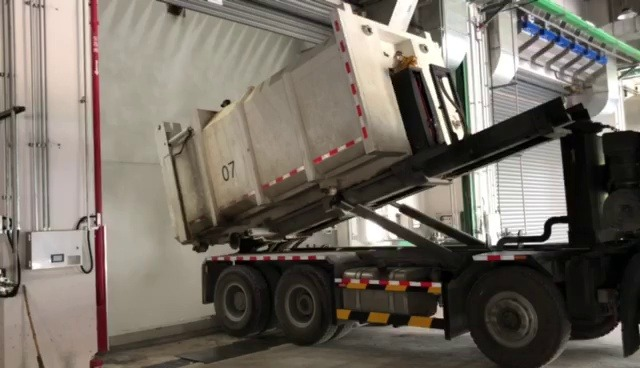truck: (146, 17, 640, 360)
